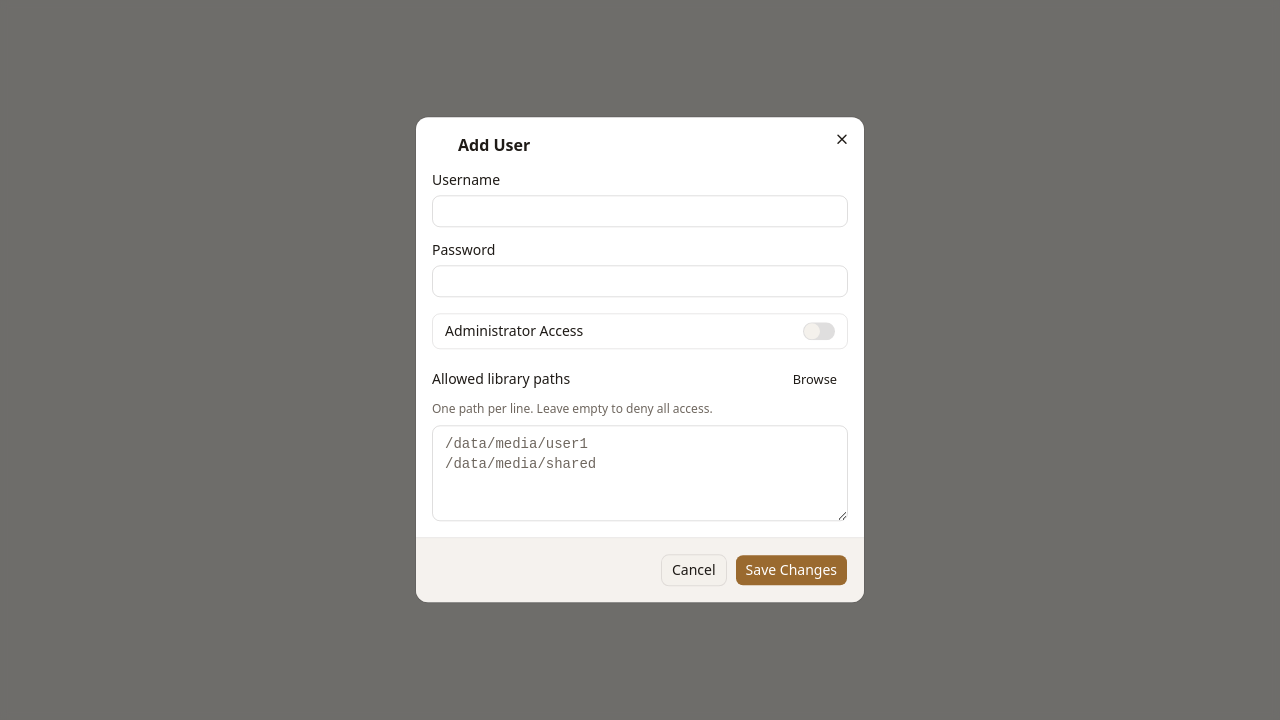
Test case: 用户编辑弹窗的路径回填 › 浏览目录选中的路径写回弹窗自身的表单
Click the button "Browse" at {"x": 806, "y": 380}, box 765,366 -> 848,394
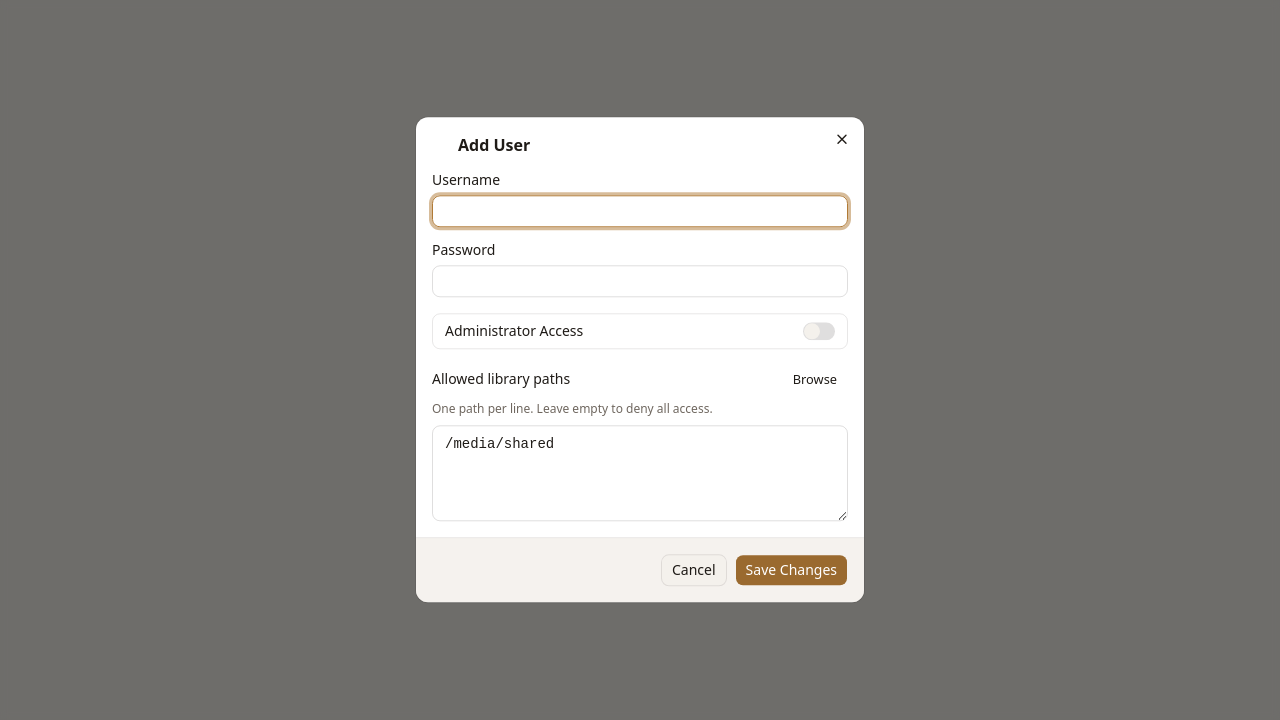
Expected: the text box with placeholder "/data/media/user1 /data/media/shared" holds "/media/shared", 432,426 -> 848,522
